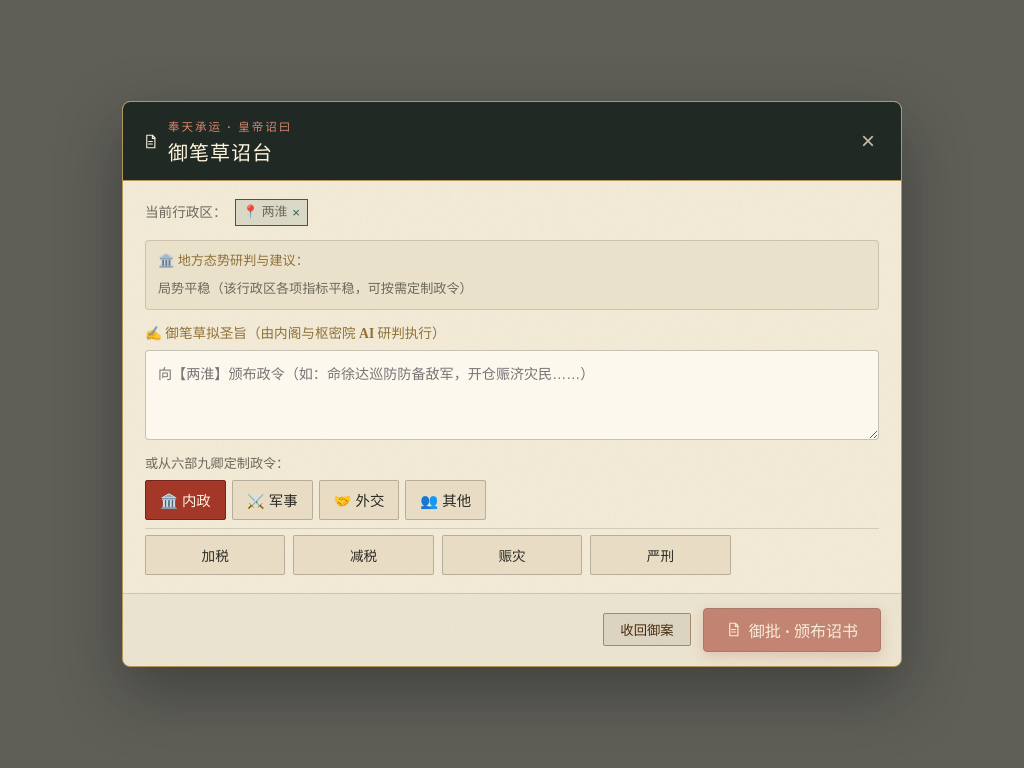
Scenario: immersion HUD edict pain points and suggestions › keeps draft intact and displays error message when decree submission fails
Type "拨付银两" into the text box.
click(512, 395); type("拨付银两")  # box [145,350,879,440]
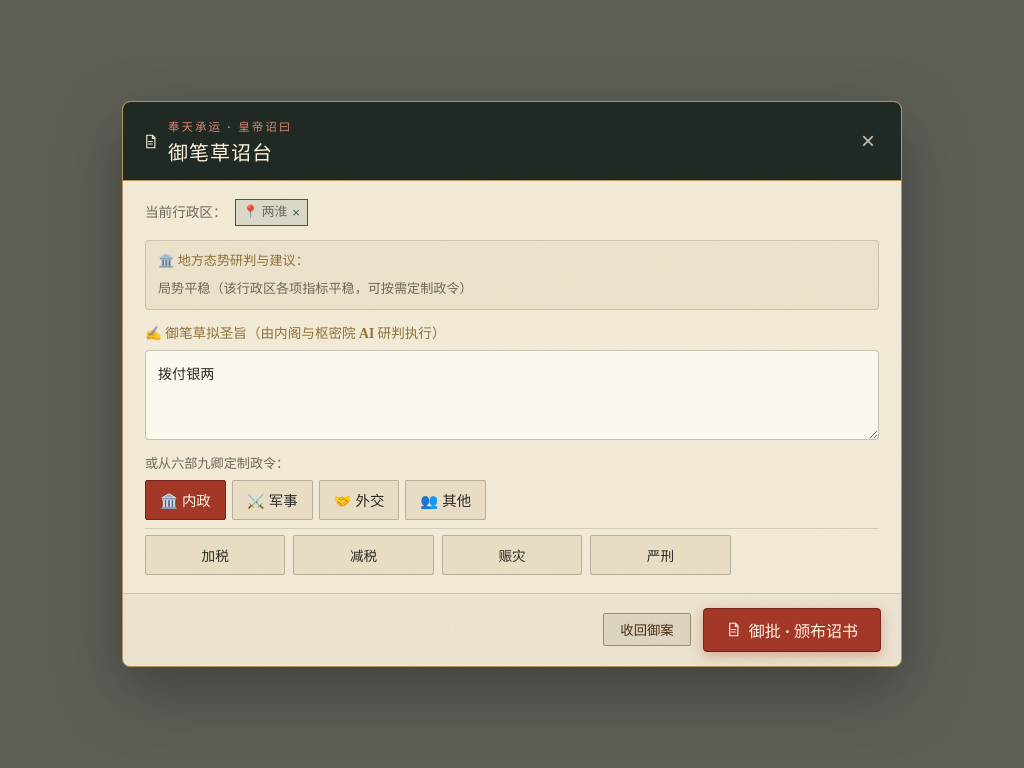
Click the button "御批 · 颁布诏书".
click(792, 630)  # box [703,608,881,652]
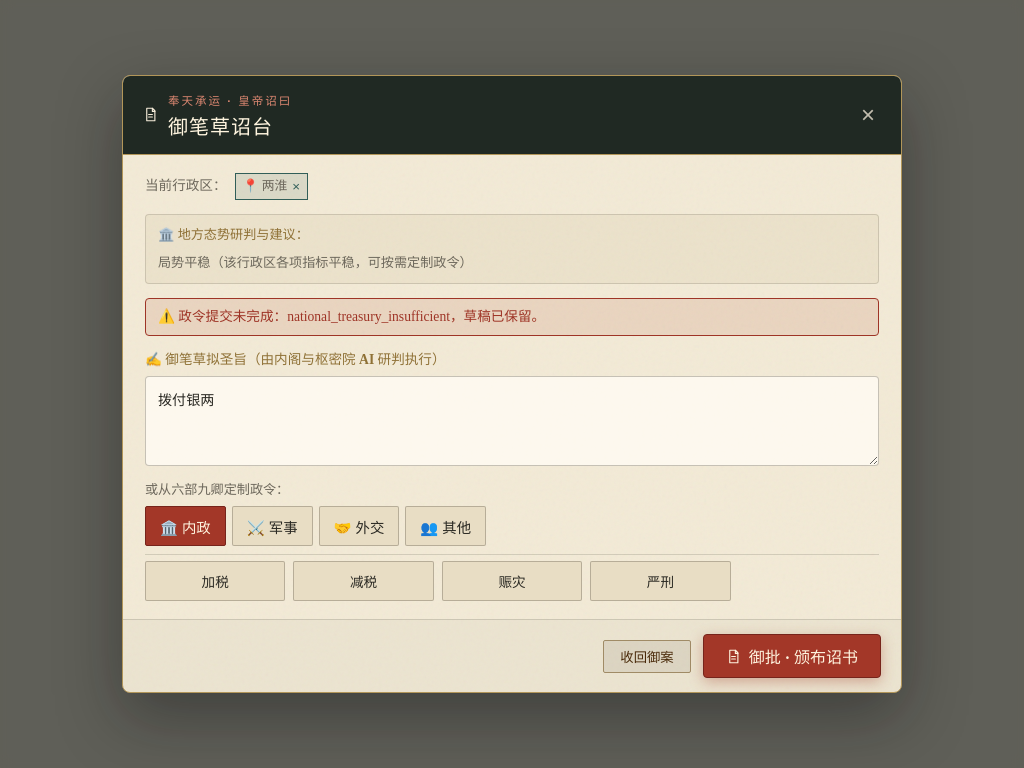
expect the text "⚠️ 政令提交未完成：national_treasury_insufficient，草稿已保留。" is shown: met, box [145,298,879,336]
